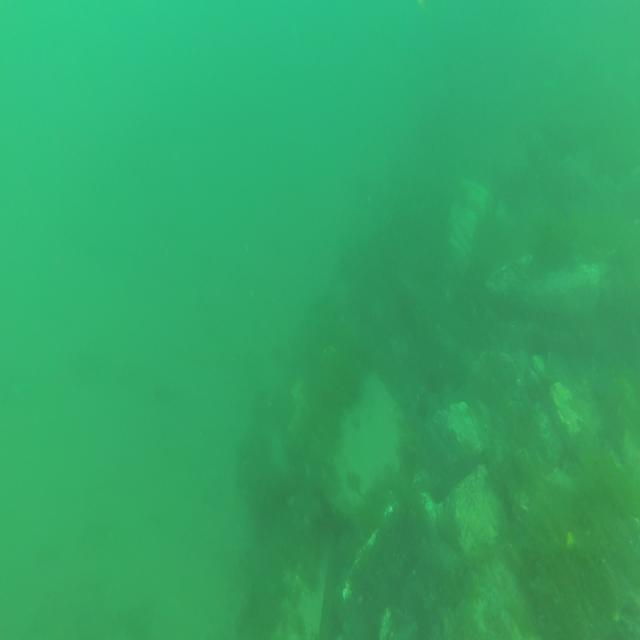echinus: (426, 369, 442, 391), (417, 398, 429, 419)
